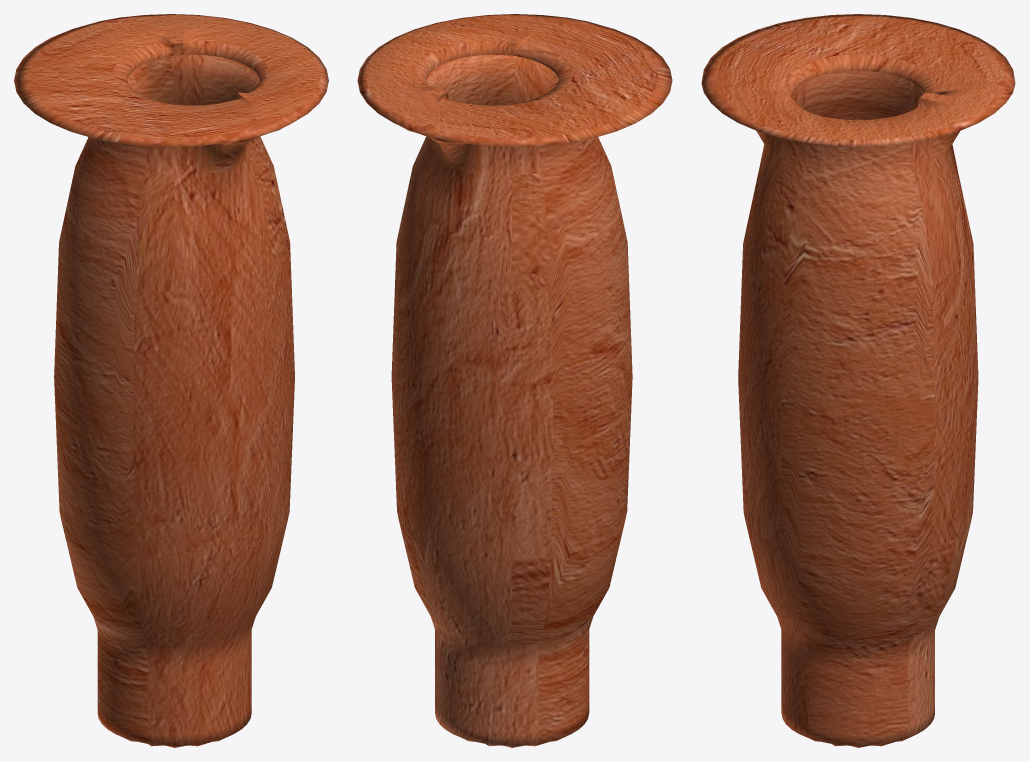
The model's file is vase.fbx.
3 views of the same model, side by side, from view 1: azimuth 30°, elevation 25°; view 2: azimuth 150°, elevation 25°; view 3: azimuth 270°, elevation 25° (orthographic).
Parts seen in each view (by area): view 1: Vase; view 2: Vase; view 3: Vase.
Boxes of the visible parts, x1,y1,x2,y2 form: Vase: (14,14,328,747); Vase: (357,14,672,747); Vase: (701,14,1015,747).
Bounding box in the file's own units: 71.43 × 162 × 71.42.
